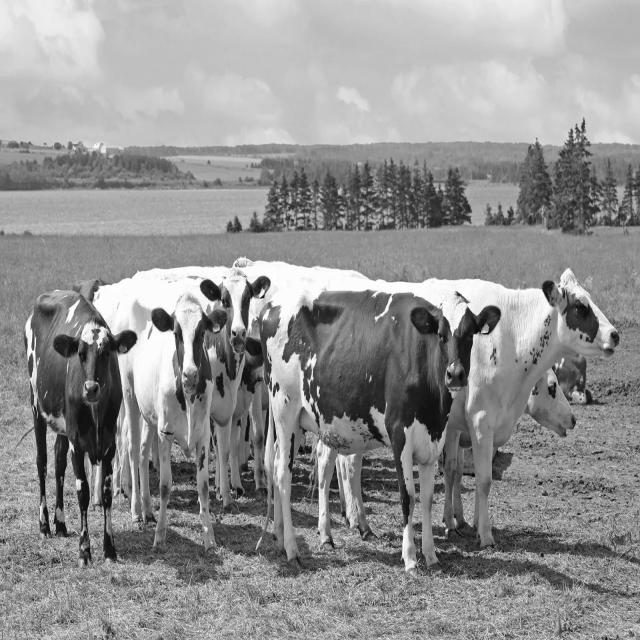Cow: (21, 254, 620, 576)
